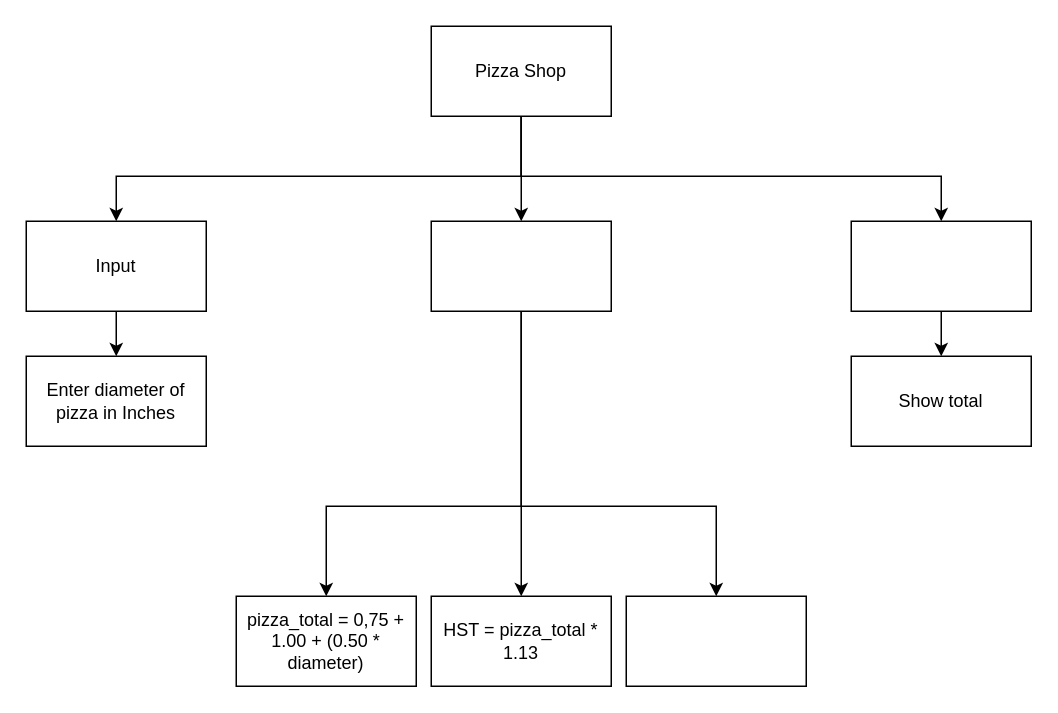
Some shapes in this 1058 by 713 pixel diagram are drawn without their labels. Each missing label, with the centre of its shape:
Output: (940,265)
Process: (520,265)
total = pizza_total + HST: (715,640)
